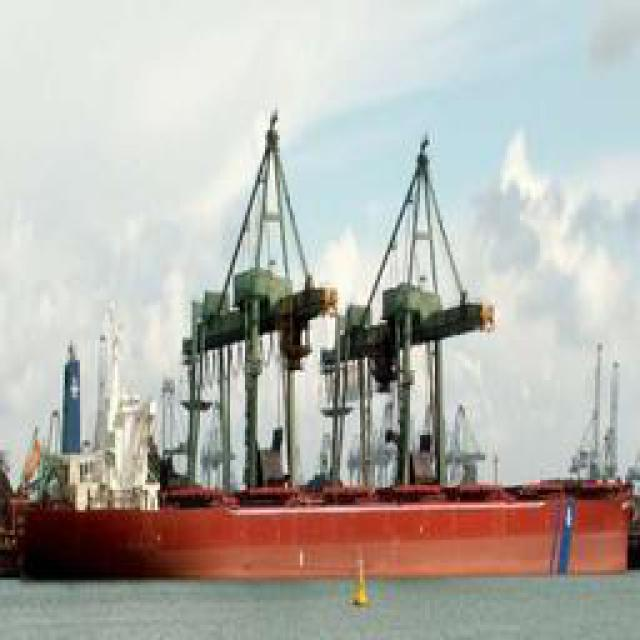Ship: (39, 97, 619, 580)
